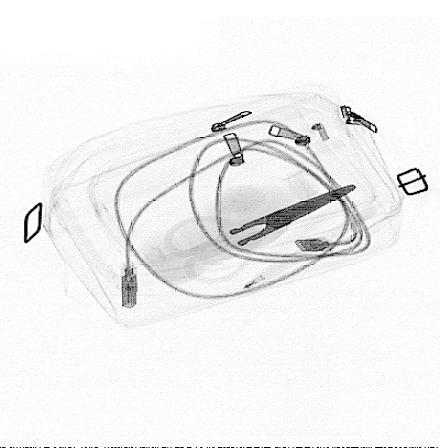Scissors: (160, 181, 362, 288)
